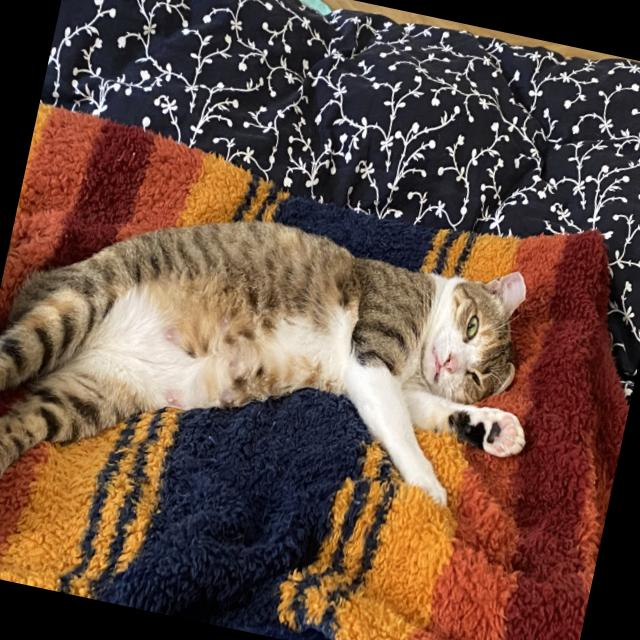cat2: (0, 163, 564, 531)
